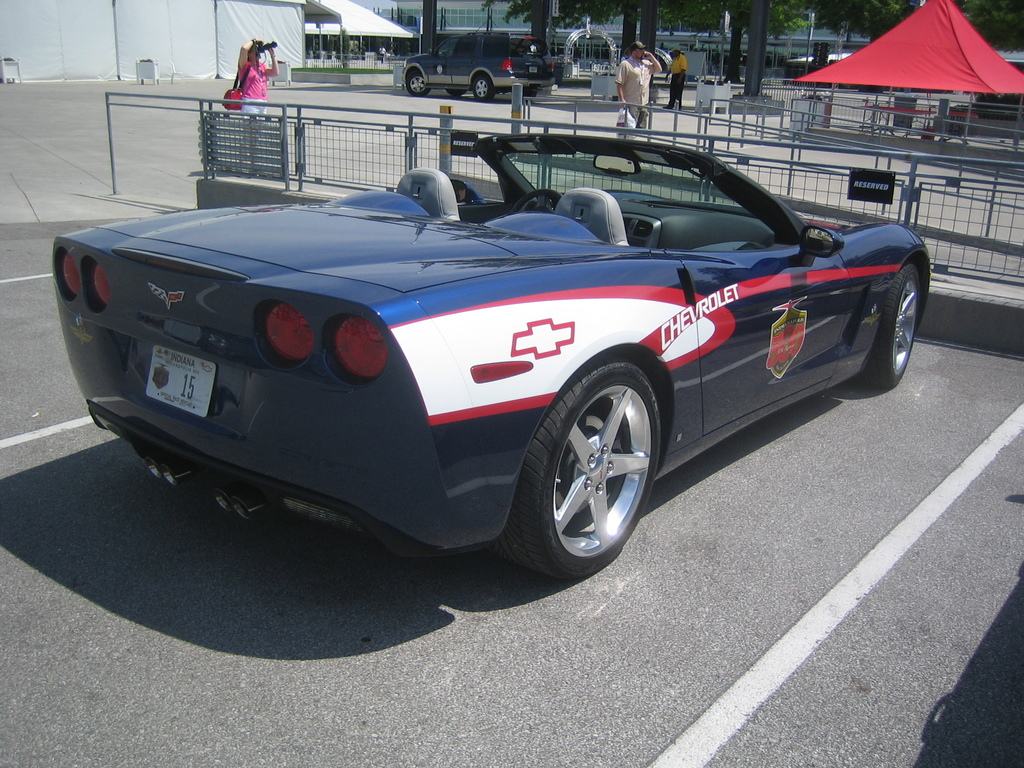Car: (52, 132, 930, 579), (401, 32, 555, 103)
